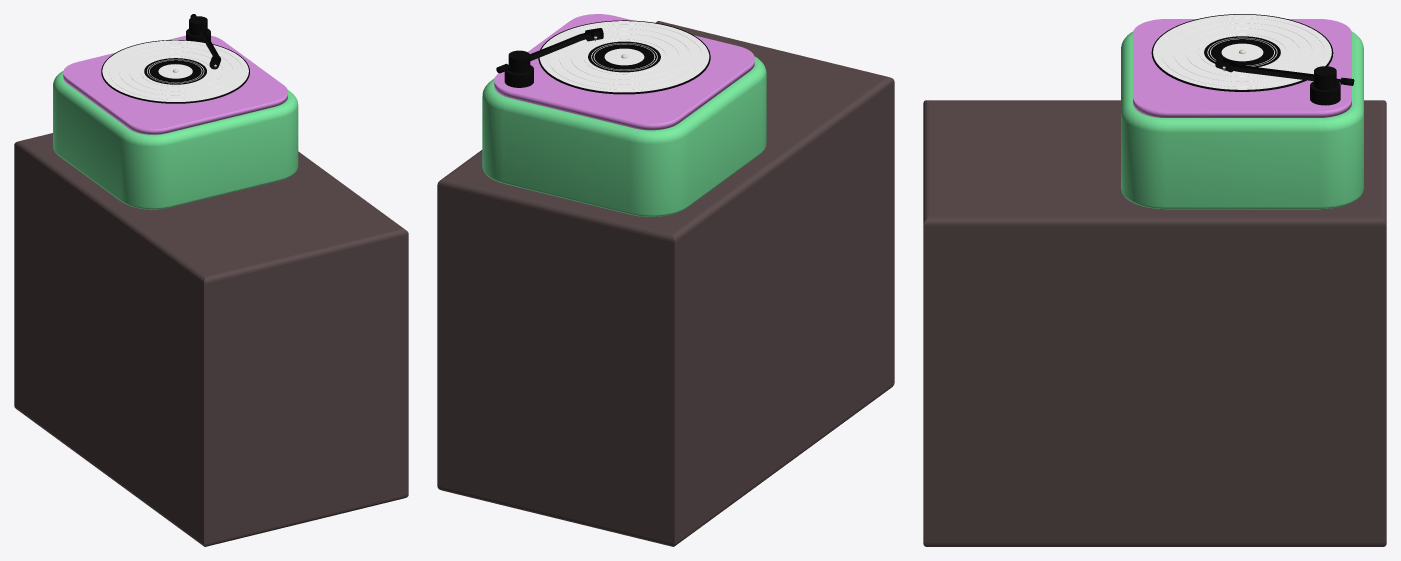
The model's file is music.glb.
3 views of the same model, side by side, from view 1: azimuth 30°, elevation 25°; view 2: azimuth 150°, elevation 25°; view 3: azimuth 270°, elevation 25° (orthographic). The views are drawn at different scales.
Parts seen in each view (by area): view 1: Plane.002, Plane, Disc, Plane.001, Cone; view 2: Plane.002, Plane, Disc, Plane.001, Cone; view 3: Plane.002, Plane, Disc, Plane.001, Cone.
Boxes of the visible parts, x1,y1,x2,y2 form: Plane.002: (14,133,408,546); Plane: (53,71,298,209); Disc: (101,40,249,103); Plane.001: (63,35,287,134); Cone: (186,14,221,69); Plane.002: (437,21,894,546); Plane: (482,56,766,216); Disc: (538,20,710,94); Plane.001: (494,14,754,130); Cone: (496,28,603,87); Plane.002: (923,100,1386,546); Plane: (1121,31,1363,209); Disc: (1151,14,1333,91); Plane.001: (1133,19,1351,117); Cone: (1215,56,1354,105).
Size of the model in its own units: 2.37 by 4.09 by 3.81.
